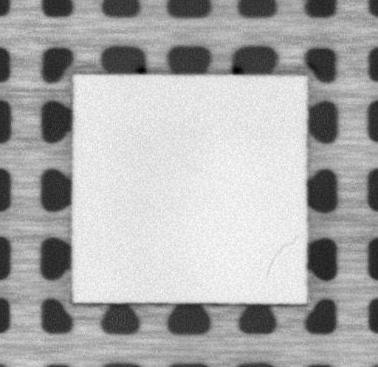DIE_CRACK: (265, 235, 299, 282)
